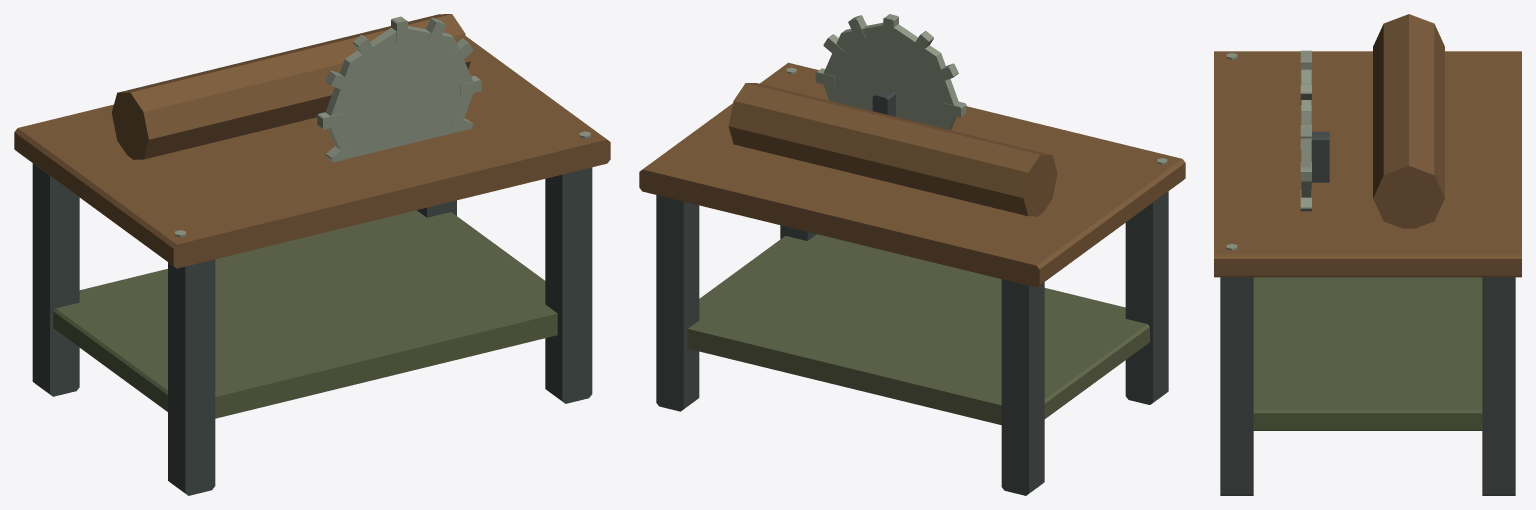
File: Sawbench.gltf
3 renders of one model, left to right at view 1: azimuth 30°, elevation 25°; view 2: azimuth 150°, elevation 25°; view 3: azimuth 270°, elevation 25°, orthographic. The views are drawn at different scales.
Parts seen in each view (by area): view 1: Sawbench; view 2: Sawbench; view 3: Sawbench.
Boxes of the visible parts, <box> form: Sawbench: <box>14,14,610,495</box>; Sawbench: <box>639,14,1185,495</box>; Sawbench: <box>1214,14,1521,495</box>.
Size of the model in its own units: 0.95 by 0.7925 by 0.6.
